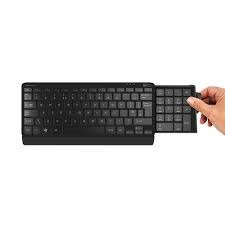keyboard: (15, 83, 196, 149)
